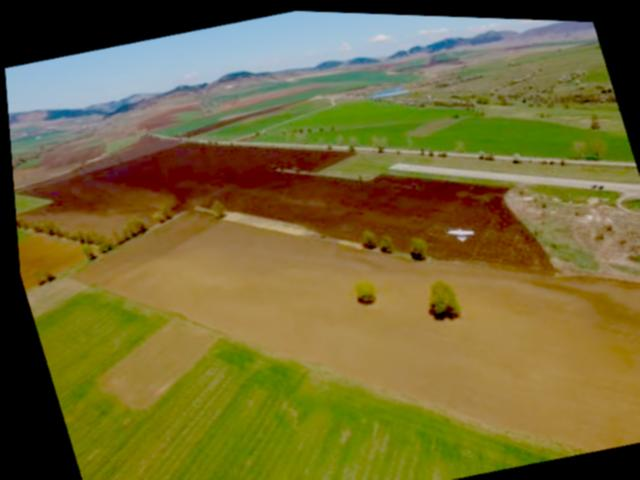uav: (436, 211, 476, 245)
